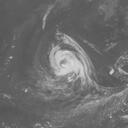cyclone: (47, 32, 95, 85)
